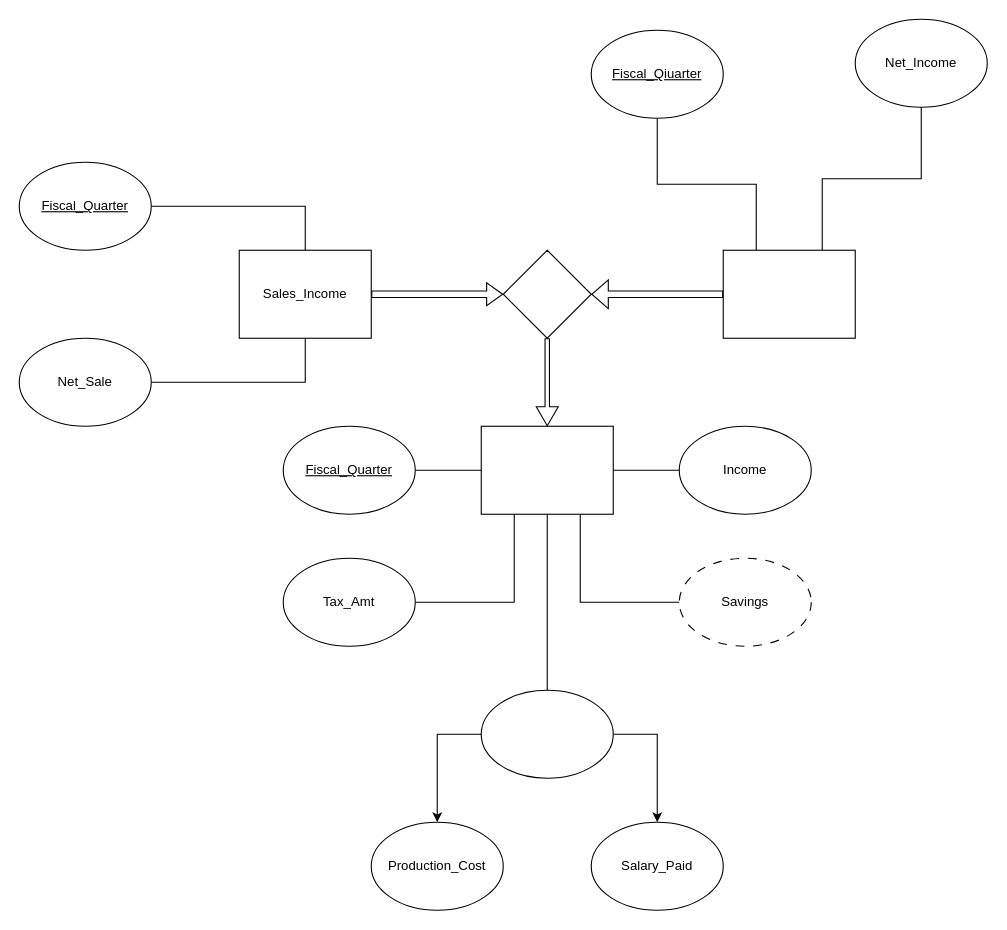
Some shapes in this 1007 by 930 pixel diagram are drawn without their labels. The shapes that lost their labels are listed below. From the top down, each one's box as (x1, y1, x2, y2) in pixels, then its label:
(502, 249, 591, 338): Adds to
(722, 249, 855, 338): Service_income
(480, 425, 613, 514): Total Income
(480, 689, 613, 778): Working_Cost
